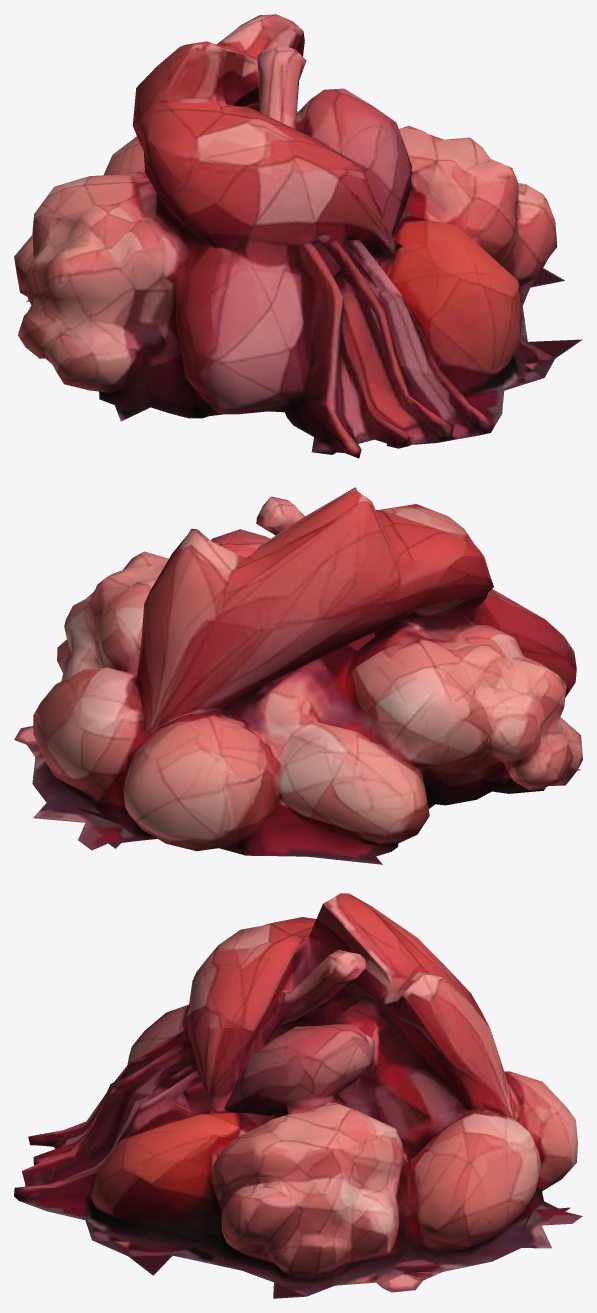
File: geometricmeatpile.glb
The picture shows the model from 3 angles, top to bottom: view 1: azimuth 30°, elevation 25°; view 2: azimuth 150°, elevation 25°; view 3: azimuth 270°, elevation 25°; orthographic projection. The views are drawn at different scales.
Visible parts, largest first — view 1: GeometricMeatPile; view 2: GeometricMeatPile; view 3: GeometricMeatPile.
Boxes of the visible parts, x1,y1,x2,y2 form: GeometricMeatPile: (14,14,582,458); GeometricMeatPile: (14,487,582,864); GeometricMeatPile: (14,893,582,1298).
Size of the model in its own units: 0.4258 by 0.2327 by 0.45.
1 material, 1 textured.
